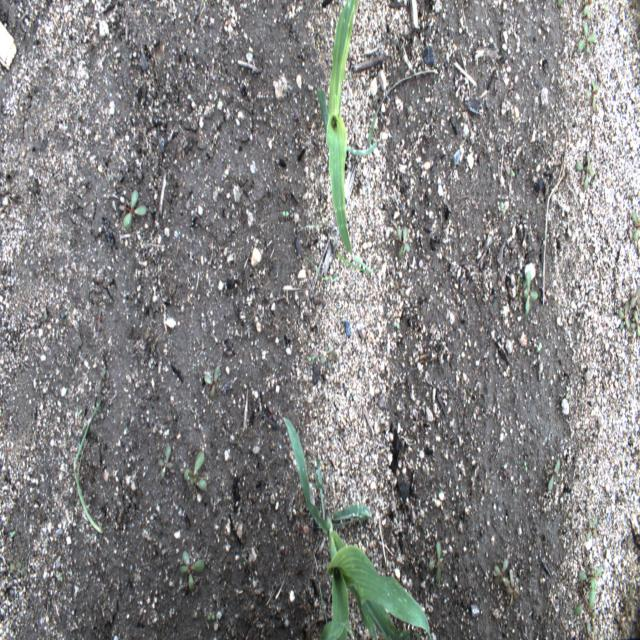crop: (281, 418, 431, 640), (316, 0, 438, 271)
weed: (74, 354, 106, 534), (334, 229, 382, 274), (119, 190, 147, 230), (516, 270, 538, 315), (302, 258, 343, 282), (184, 451, 208, 491), (180, 550, 204, 590), (574, 150, 595, 191), (428, 540, 444, 584), (574, 588, 596, 618), (544, 454, 561, 491), (299, 208, 327, 230), (204, 364, 220, 400), (578, 567, 602, 590), (158, 444, 173, 480), (578, 23, 596, 53), (493, 557, 509, 587), (507, 569, 519, 608), (396, 227, 410, 260), (320, 344, 336, 370), (618, 301, 630, 331), (587, 78, 598, 110), (586, 516, 597, 542), (630, 310, 640, 338), (631, 211, 640, 242), (10, 560, 26, 576), (630, 286, 640, 311), (584, 621, 596, 639), (583, 0, 594, 19), (68, 38, 77, 58), (101, 372, 110, 388), (268, 405, 277, 420), (501, 200, 506, 222), (568, 504, 575, 518), (580, 442, 594, 448), (207, 614, 217, 620), (524, 459, 528, 474), (281, 211, 290, 217), (557, 0, 564, 7), (10, 530, 16, 537), (308, 355, 314, 361), (59, 572, 62, 582)
